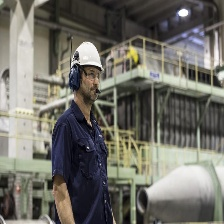helmet: (69, 42, 107, 77)
no-vest: (55, 103, 117, 224)
person: (52, 42, 115, 224)
